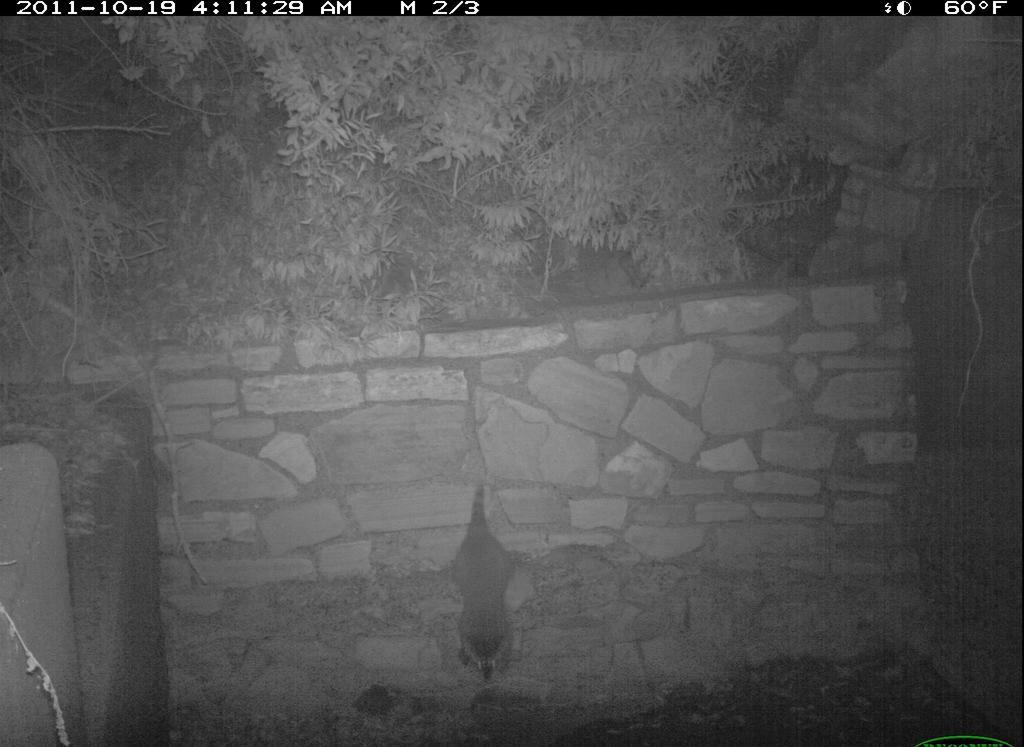raccoon: (425, 493, 536, 684)
